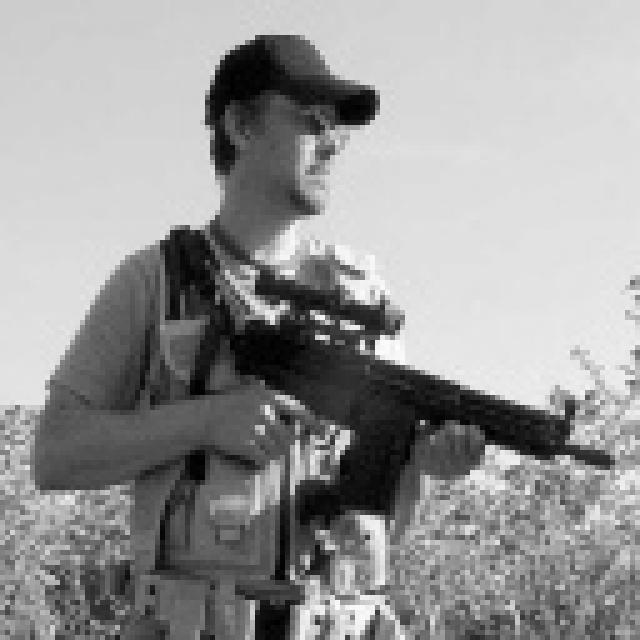Rifle: (126, 249, 626, 609)
